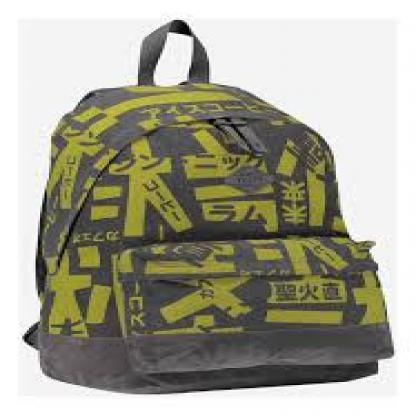morral: (26, 17, 414, 397)
